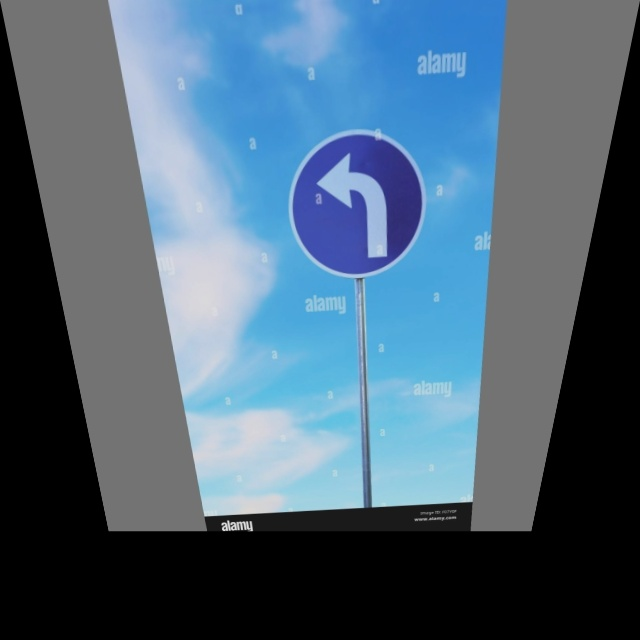Compulsory_Turn_Left_Ahead: (287, 122, 434, 285)
